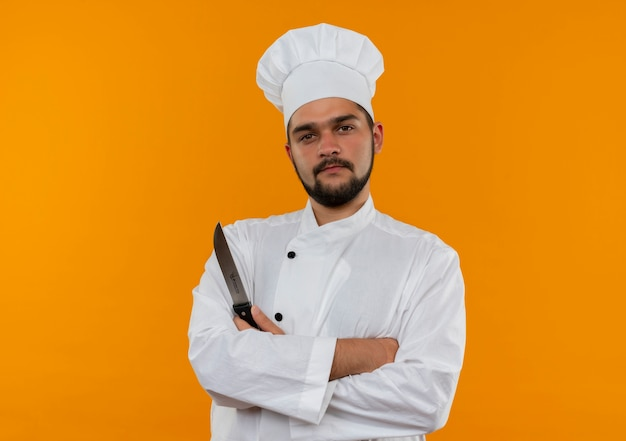knife: (214, 220, 262, 329)
